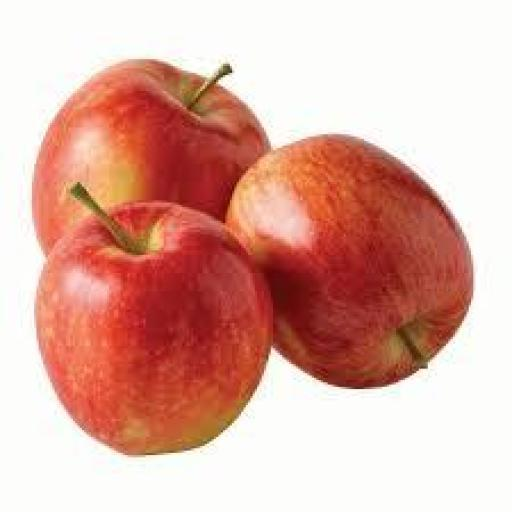apple: (37, 185, 273, 455), (228, 135, 473, 386), (32, 60, 268, 252)
